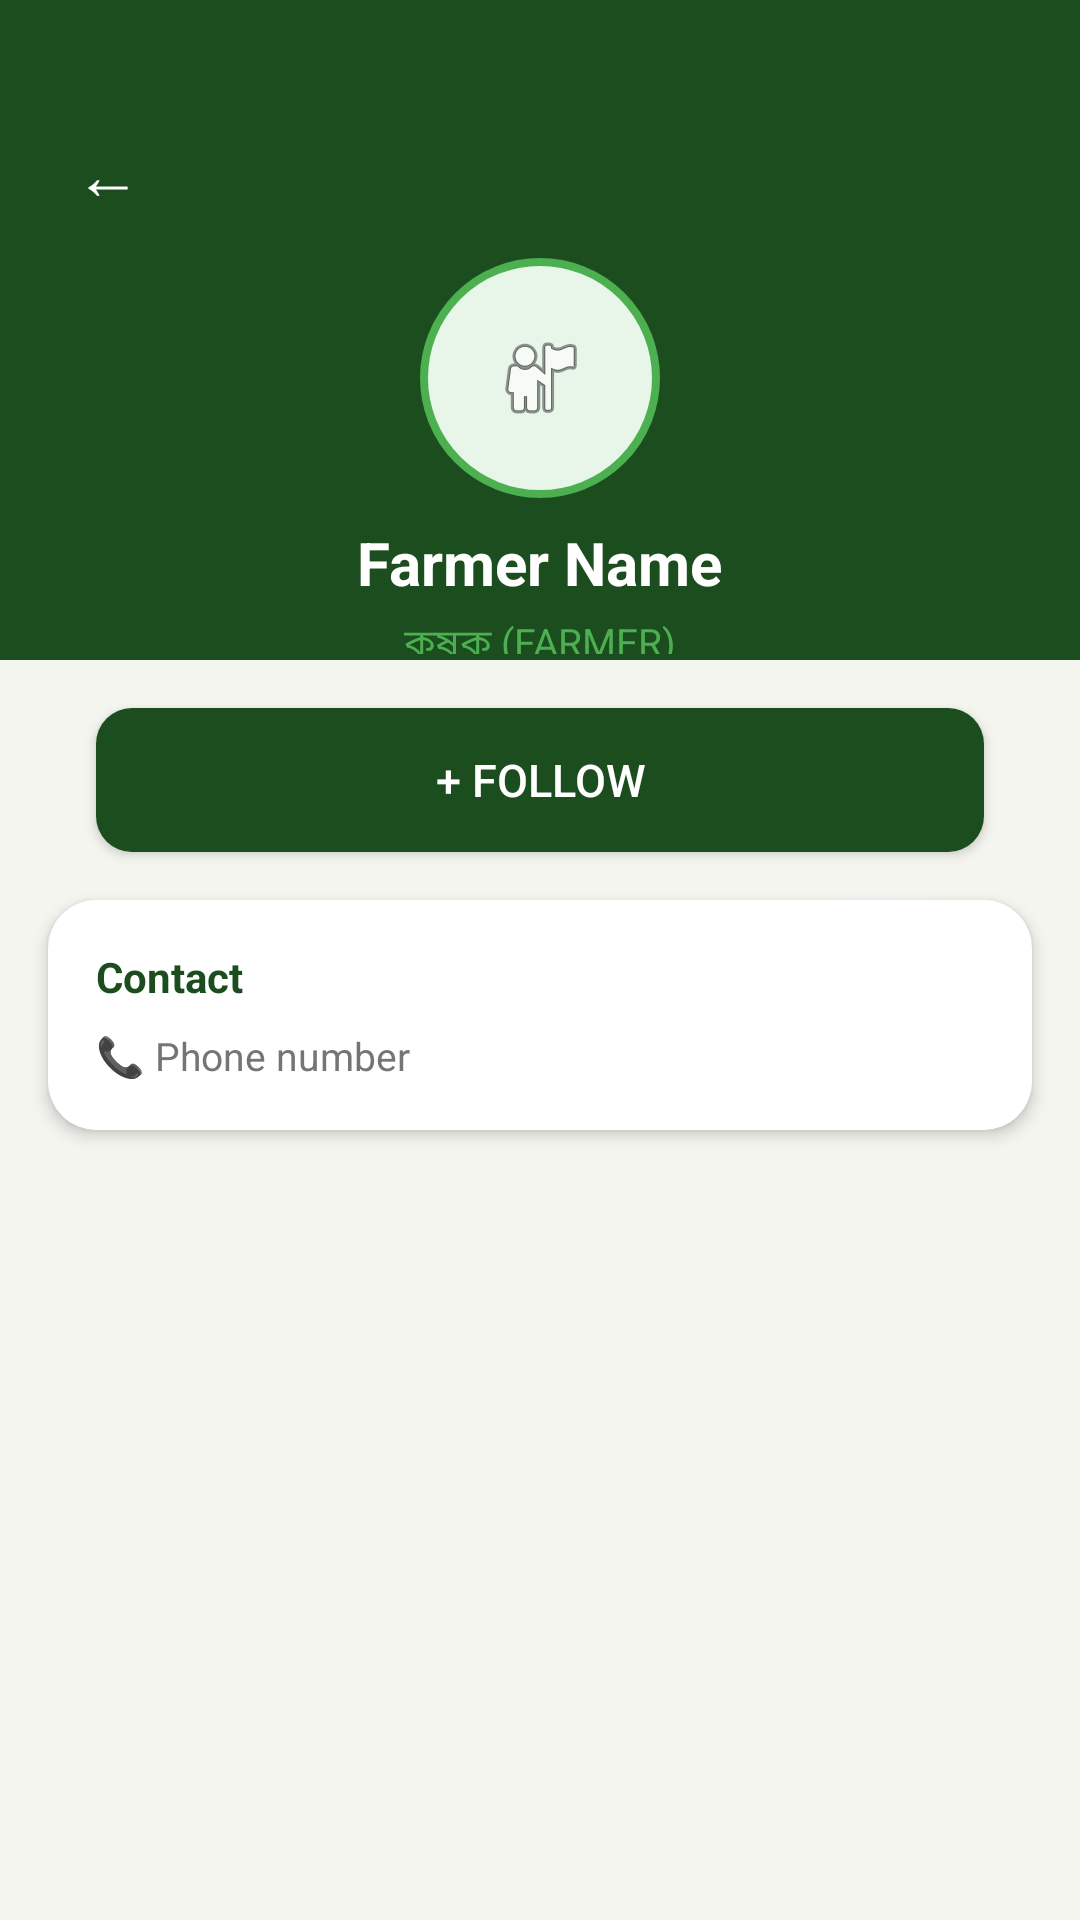

Named icons in this screenshot (1080px×1920px) and their bounding boxes, BBox(x1, y1, x2, y2):
avatar: BBox(420, 258, 660, 498)
